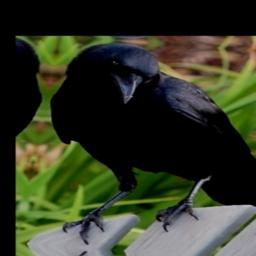Crow: (20, 40, 256, 256)
